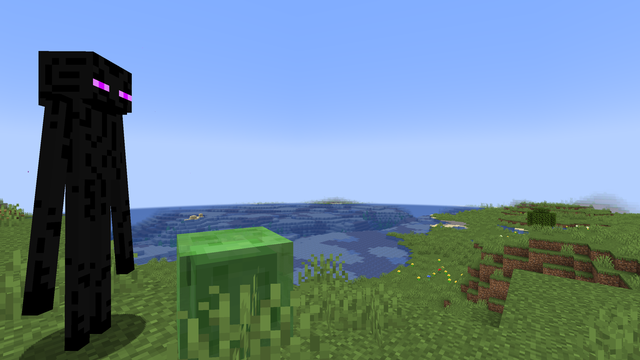endermens: (44, 31, 133, 358)
slimes: (159, 222, 299, 355)
